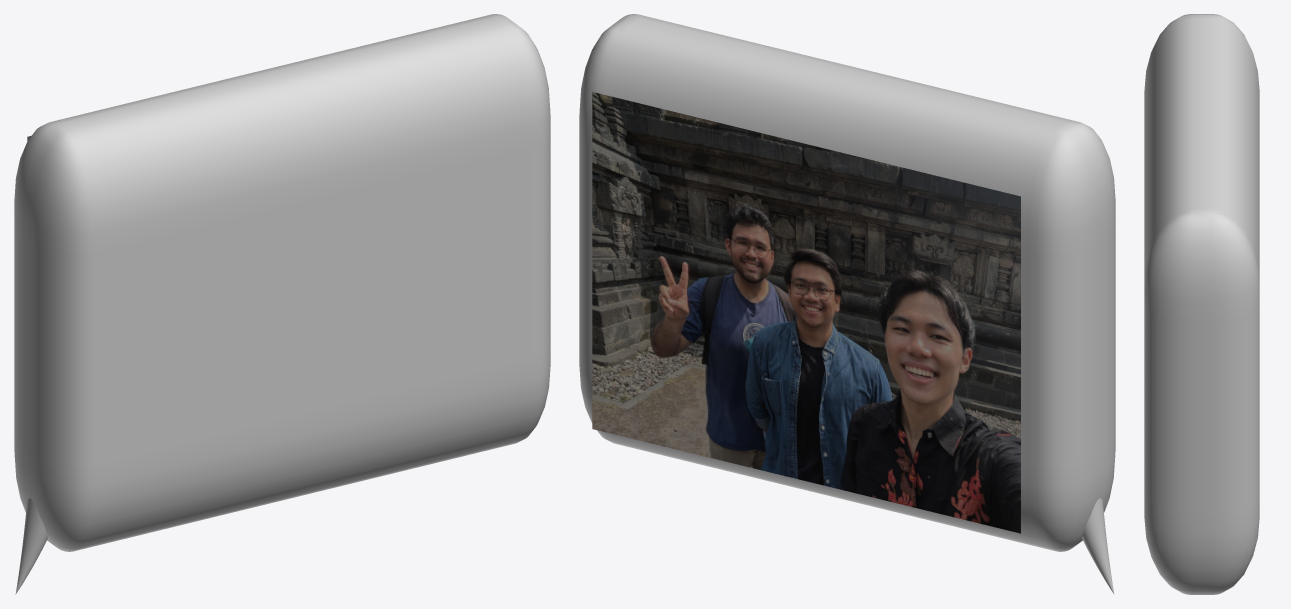
The picture shows the model from 3 angles, left to right: view 1: azimuth 30°, elevation 25°; view 2: azimuth 150°, elevation 25°; view 3: azimuth 270°, elevation 25°; orthographic projection. The views are drawn at different scales.
Parts seen in each view (by area): view 1: Object_2; view 2: オランダ, Object_2; view 3: Object_2.
Part boxes in pixels (x1=…): Object_2: x1=14, y1=14, x2=550, y2=594; オランダ: x1=592, y1=92, x2=1020, y2=533; Object_2: x1=579, y1=14, x2=1115, y2=594; Object_2: x1=1144, y1=14, x2=1259, y2=594.
Size of the model in its own units: 4.04 by 3.38 by 0.9714.
Materials: 2 (1 with a texture image).
